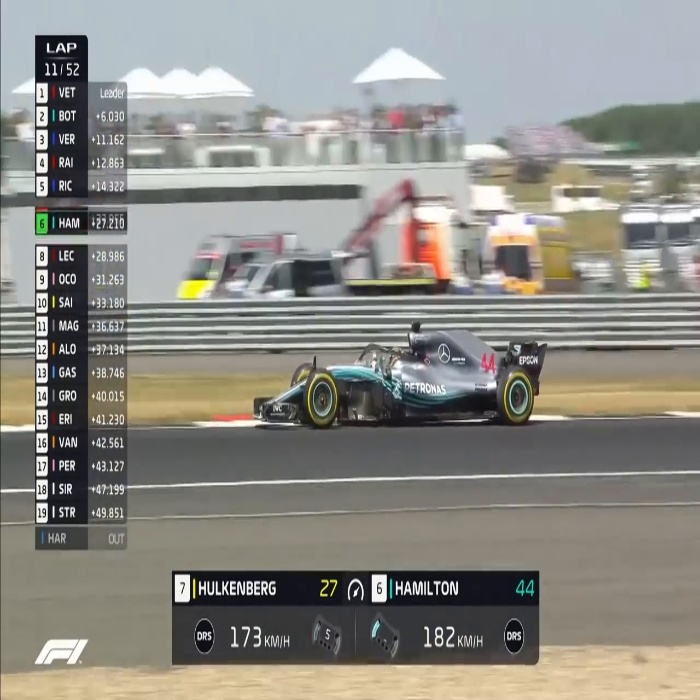f1_car: (233, 319, 578, 434)
